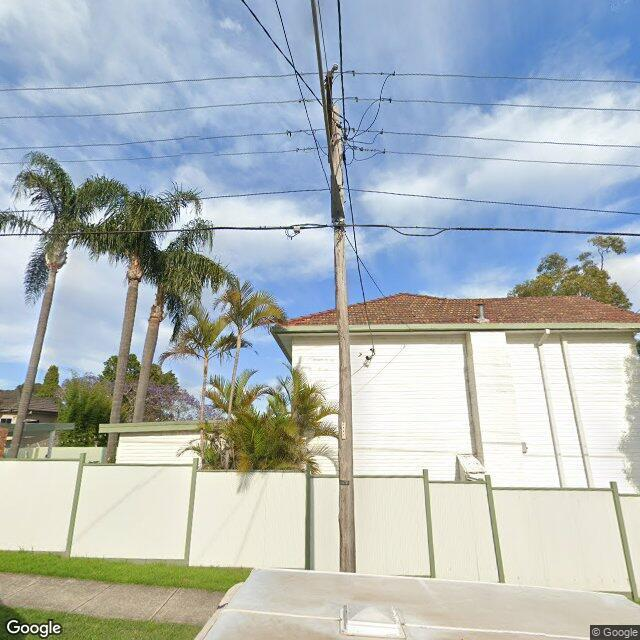crossarm: (324, 71, 335, 149)
timber-pole: (326, 105, 355, 572)
